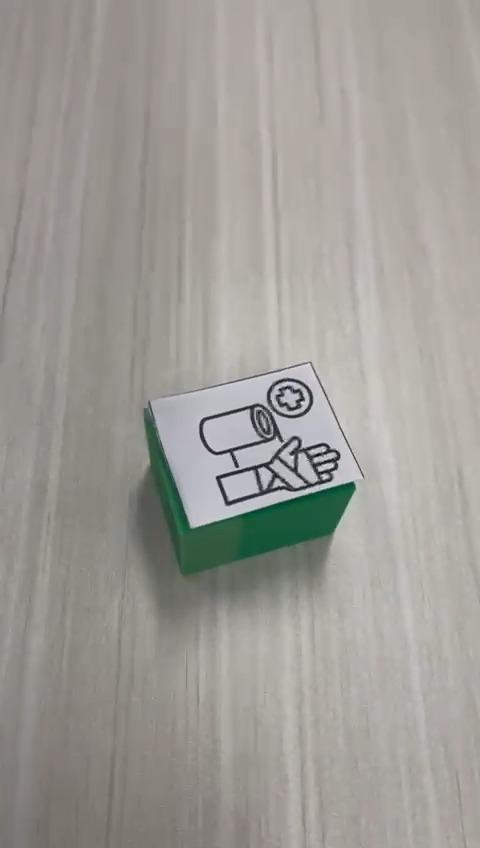Bandages: (144, 363, 363, 577)
